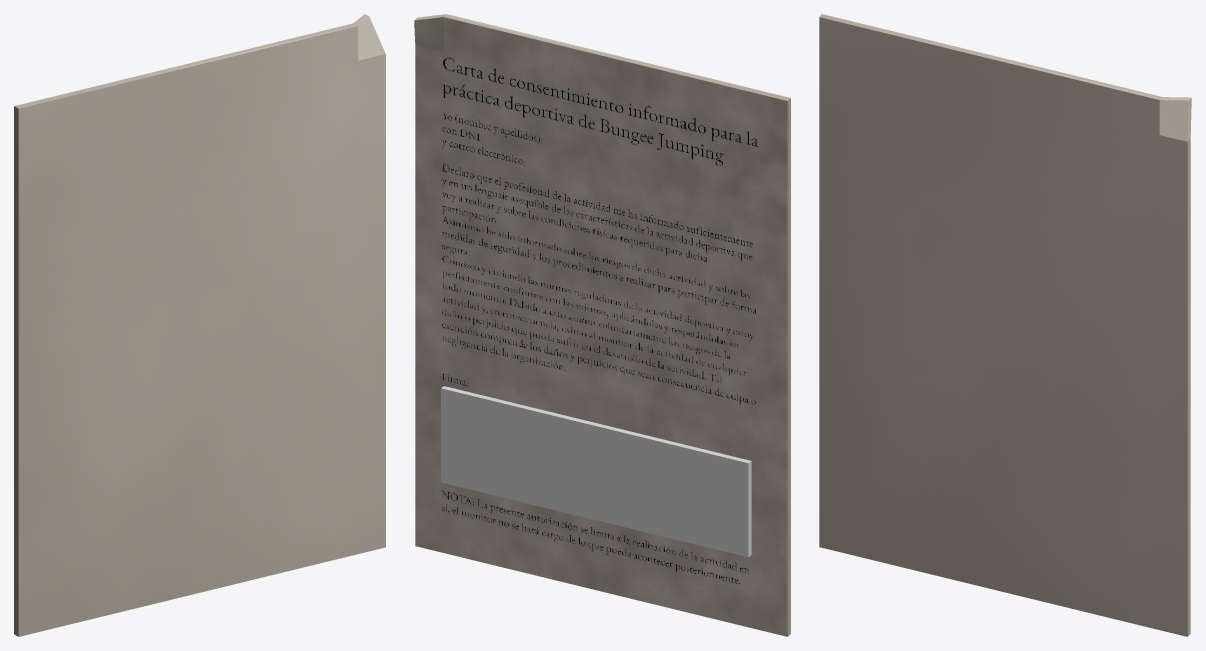
The model's file is hoja 1.fbx.
3 renders of one model, left to right at view 1: azimuth 30°, elevation 25°; view 2: azimuth 150°, elevation 25°; view 3: azimuth 330°, elevation 25°, orthographic.
Visible parts, largest first — view 1: Cube; view 2: Cube, Cube.001; view 3: Cube.
Part boxes in pixels (x1=…): Cube: x1=14, y1=14, x2=385, y2=636; Cube: x1=414, y1=14, x2=790, y2=636; Cube.001: x1=441, y1=386, x2=751, y2=557; Cube: x1=819, y1=14, x2=1191, y2=636.
Bounding box in the file's own units: 200 × 275 × 11.93.
